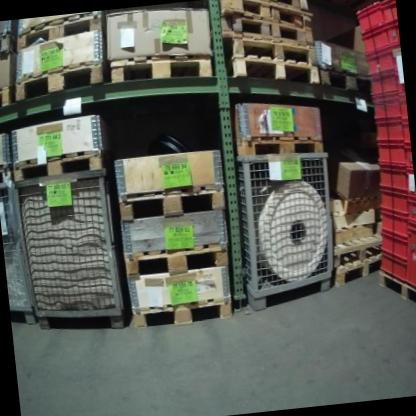pallet: (11, 57, 110, 105), (115, 181, 228, 222), (121, 237, 230, 279), (108, 47, 214, 88), (226, 5, 314, 54), (229, 27, 317, 74), (230, 50, 319, 95), (14, 10, 109, 52), (131, 294, 233, 331), (233, 126, 324, 163), (11, 149, 105, 183), (227, 0, 311, 34), (373, 265, 416, 316), (330, 230, 385, 267), (318, 61, 372, 98), (329, 253, 386, 287), (0, 30, 20, 59), (254, 0, 309, 10), (0, 84, 16, 109)
small_load_carrier: (400, 218, 416, 294), (379, 230, 411, 268), (378, 247, 410, 284), (350, 0, 385, 33), (378, 212, 411, 244), (375, 140, 409, 171), (379, 190, 409, 225), (376, 165, 408, 197), (360, 25, 392, 56), (371, 119, 406, 145), (365, 48, 395, 78), (368, 70, 397, 100), (371, 94, 400, 122), (379, 0, 397, 24), (405, 196, 416, 228), (405, 171, 416, 201), (392, 69, 404, 95), (396, 95, 407, 121), (389, 23, 399, 46), (402, 123, 411, 148), (403, 150, 412, 170)
stillage: (10, 155, 126, 338), (219, 139, 341, 312), (0, 173, 34, 342)
